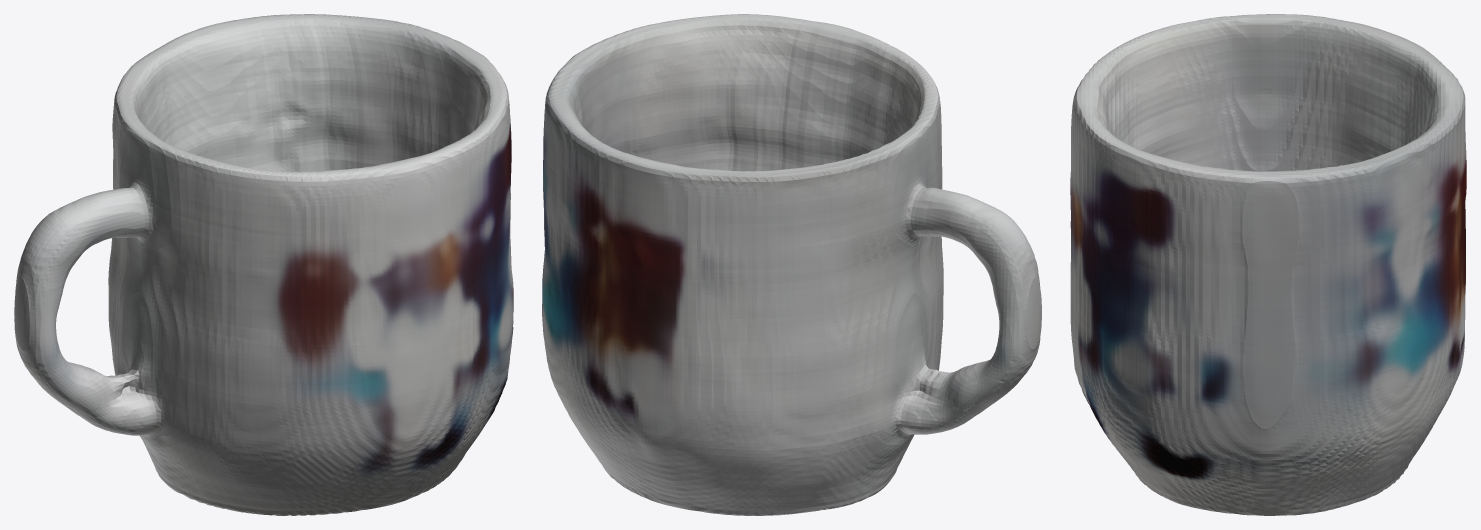
File: mug.glb
3 renders of one model, left to right at view 1: azimuth 30°, elevation 25°; view 2: azimuth 150°, elevation 25°; view 3: azimuth 270°, elevation 25°, orthographic.
Parts seen in each view (by area): view 1: tmplpr2_x0v.ply; view 2: tmplpr2_x0v.ply; view 3: tmplpr2_x0v.ply.
Boxes of the visible parts, left/top/right/bottom form: tmplpr2_x0v.ply: left=14, top=14, right=513, bottom=515; tmplpr2_x0v.ply: left=542, top=14, right=1041, bottom=515; tmplpr2_x0v.ply: left=1070, top=14, right=1466, bottom=515.
Size of the model in its own units: 1.98 by 1.48 by 1.47.
